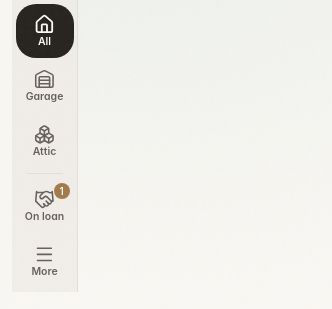
Scenario: RoomRail › rolls the other destinations up over the rooms and back down
The image size is (332, 309).
Expected: the link "Attic" is shown, [33,124,56,158]
Click the button "More". click: (44, 261)
box: [16,234,74,288]
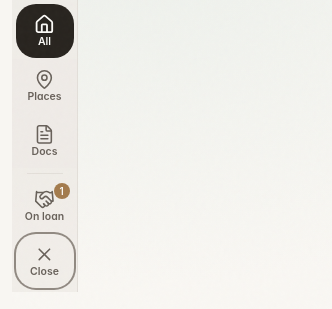
Expected: the element "Attic" is shown, [26,69,63,158]
Click the button "Close". click: (44, 261)
box: [16,234,74,288]
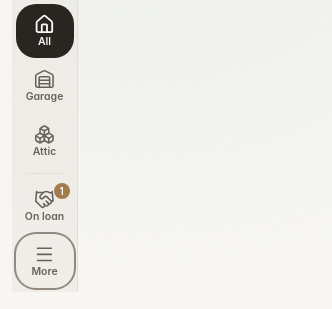
Result: the button "More" is collapsed at [16,234,74,288]
